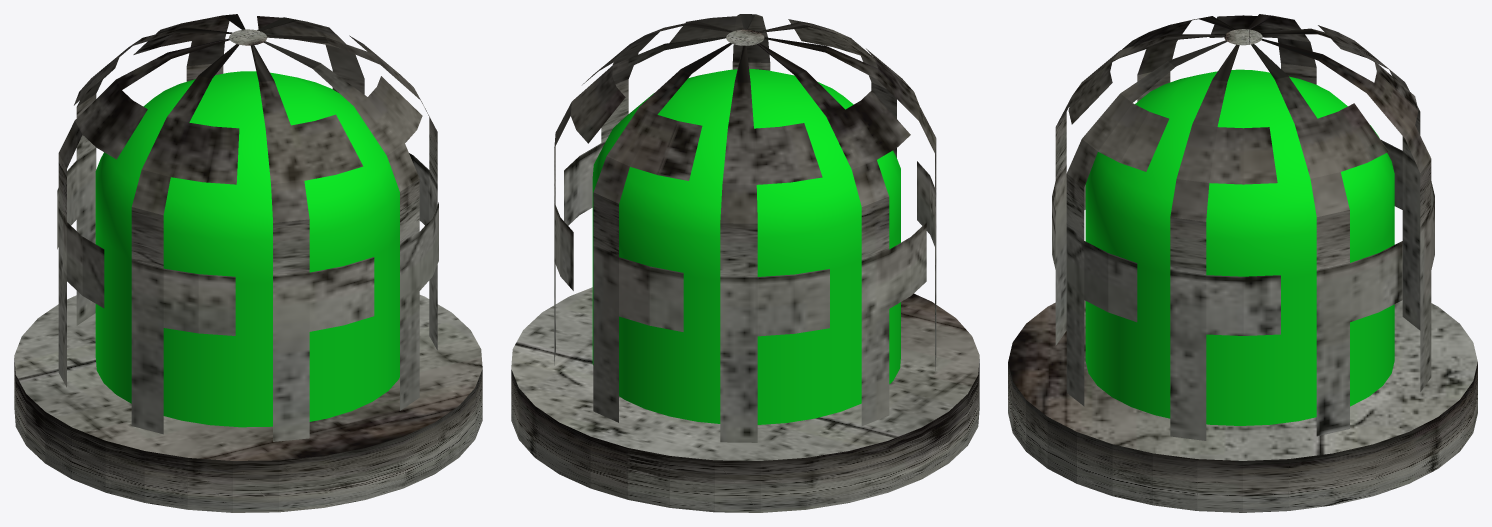
The model's file is LuzEmergenciaVerde.glb.
3 renders of one model, left to right at view 1: azimuth 30°, elevation 25°; view 2: azimuth 150°, elevation 25°; view 3: azimuth 270°, elevation 25°, orthographic.
Visible parts, largest first — view 1: Cilindro.003, Cilindro.006, Cilindro.007; view 2: Cilindro.003, Cilindro.006, Cilindro.007; view 3: Cilindro.003, Cilindro.006, Cilindro.007.
Part boxes in pixels (x1,y1,x2,y2): Cilindro.003: (57, 14, 438, 441); Cilindro.006: (95, 71, 399, 427); Cilindro.007: (14, 295, 482, 512); Cilindro.003: (554, 14, 936, 442); Cilindro.006: (592, 69, 900, 424); Cilindro.007: (511, 287, 979, 512); Cilindro.003: (1052, 14, 1434, 440); Cilindro.006: (1085, 69, 1394, 425); Cilindro.007: (1008, 300, 1477, 512).
Bounding box in the file's own units: 0.6108 × 0.5403 × 0.6108.
Materials: 2 (1 with a texture image).
